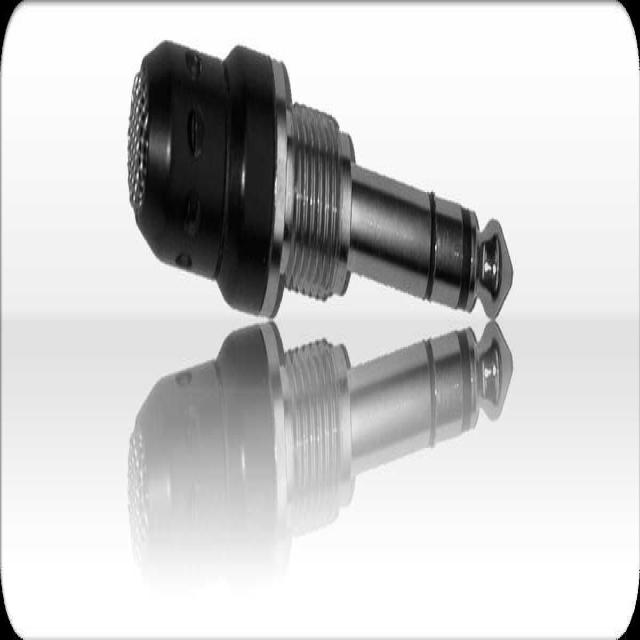microphone: (130, 43, 495, 332)
